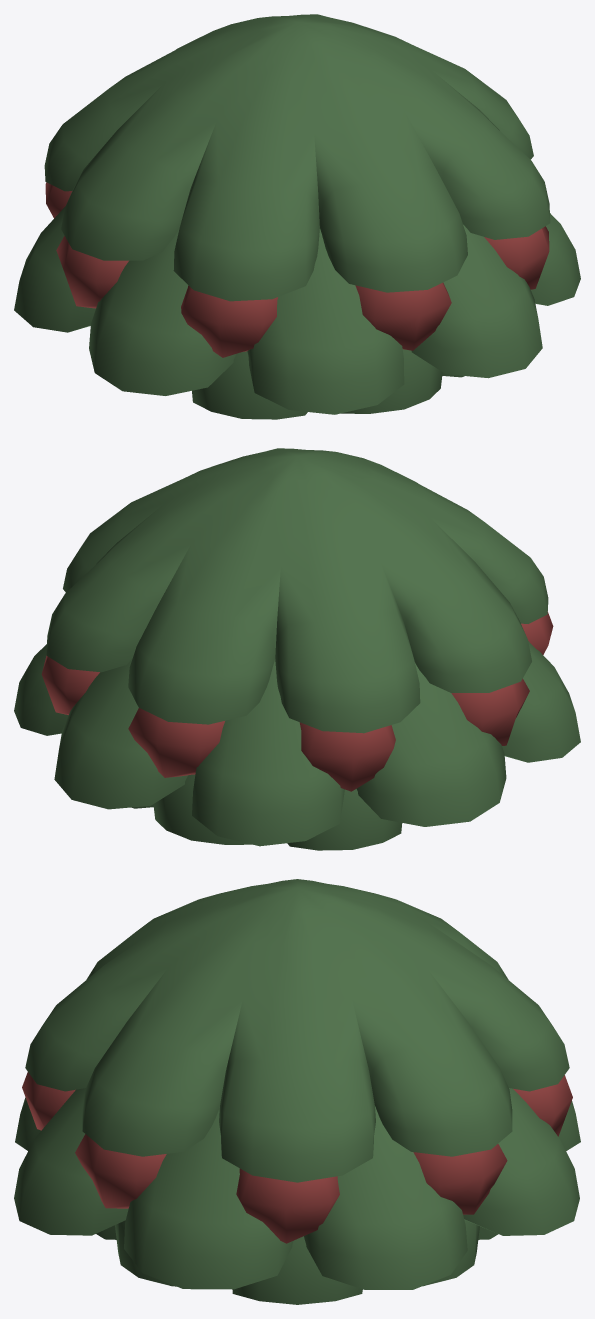
The model's file is Bush_Fruit.glb.
3 renders of one model, top to bottom at view 1: azimuth 30°, elevation 25°; view 2: azimuth 150°, elevation 25°; view 3: azimuth 270°, elevation 25°, orthographic. The views are drawn at different scales.
Visible parts, largest first — view 1: Bush_Fruit; view 2: Bush_Fruit; view 3: Bush_Fruit.
Boxes of the visible parts, x1,y1,x2,y2 form: Bush_Fruit: [14, 14, 580, 419]; Bush_Fruit: [14, 448, 580, 850]; Bush_Fruit: [14, 879, 580, 1304].
Size of the model in its own units: 3.52 by 2.23 by 3.53.
